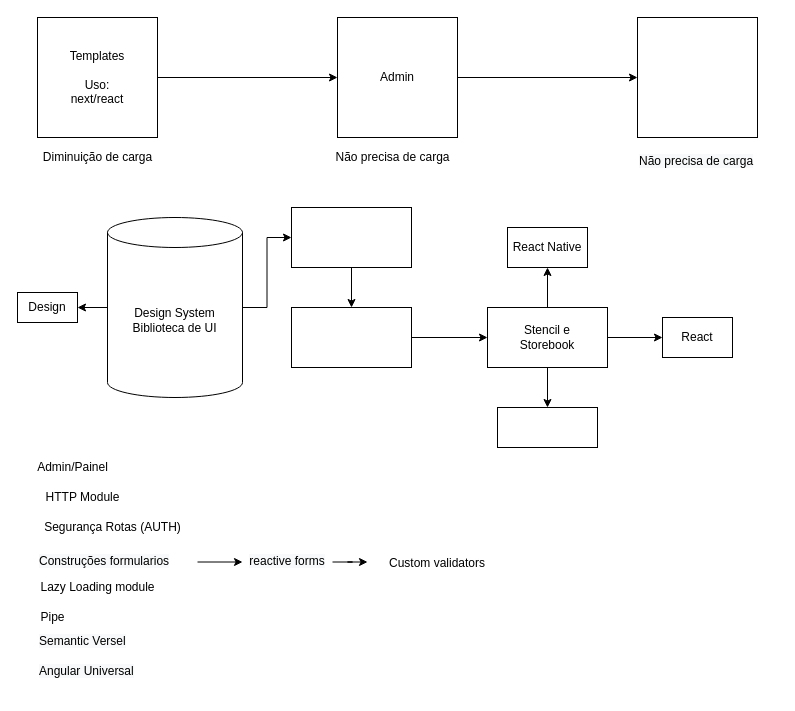
Image size: 795x711. Some labels were removed from this diagram. The shapes that lost their labels are listed below. From the top down, each one's centre as x and y in pixels, then its label:
the point at 697,77: Painel/Netshowme
the point at 351,237: Desenvolvimento Front-end web nativa
the point at 351,337: Web Components
the point at 547,427: Angular
